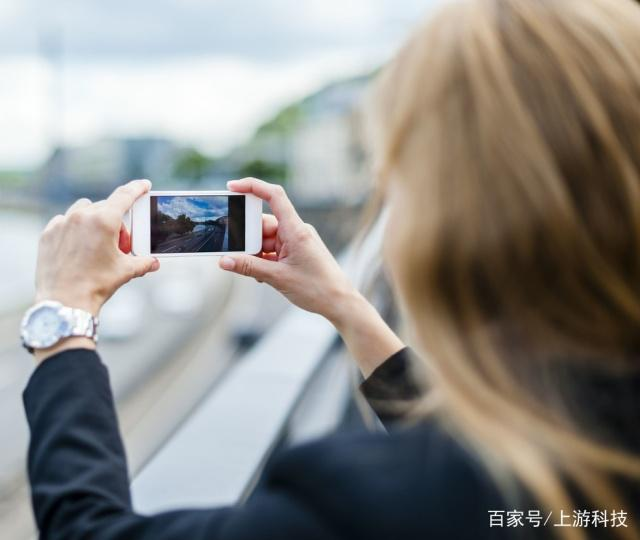taking photos: (28, 173, 372, 319)
